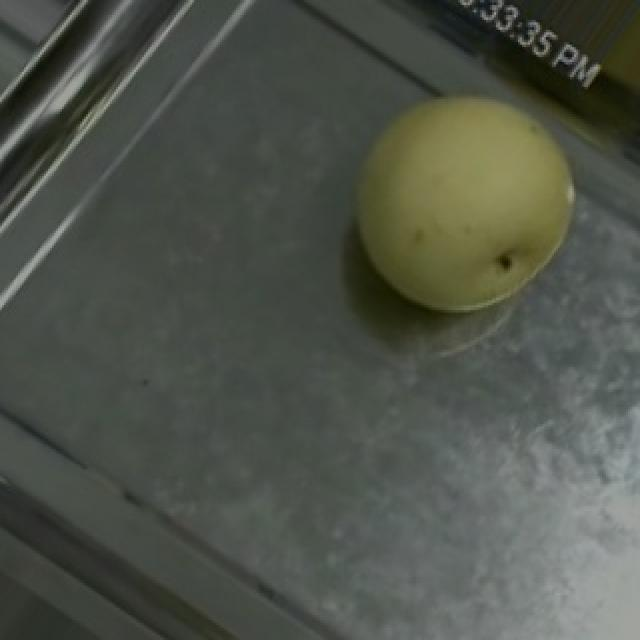Fruit: (304, 42, 622, 352)
